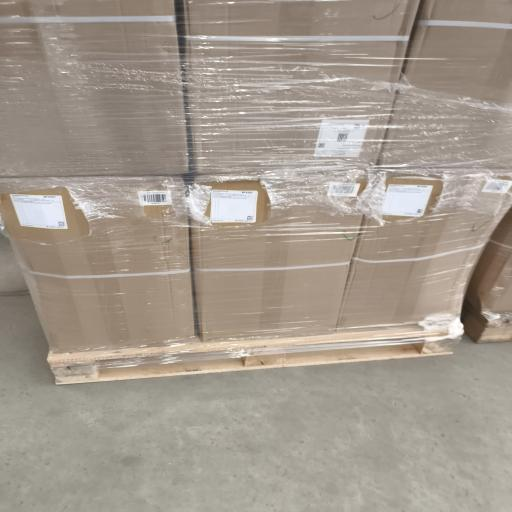pallet: (48, 327, 452, 384), (463, 314, 511, 343)
